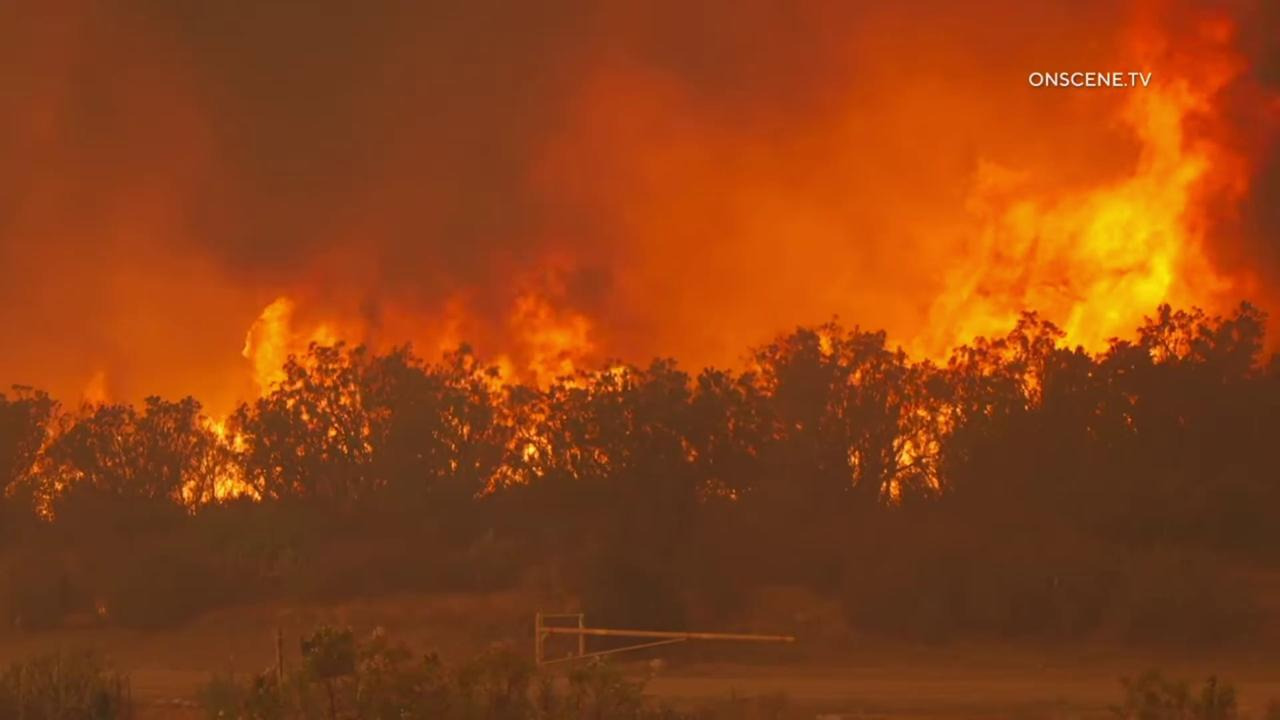fire: (841, 0, 1280, 506), (168, 294, 372, 515), (436, 284, 628, 500)
smoke: (0, 0, 1280, 720)
